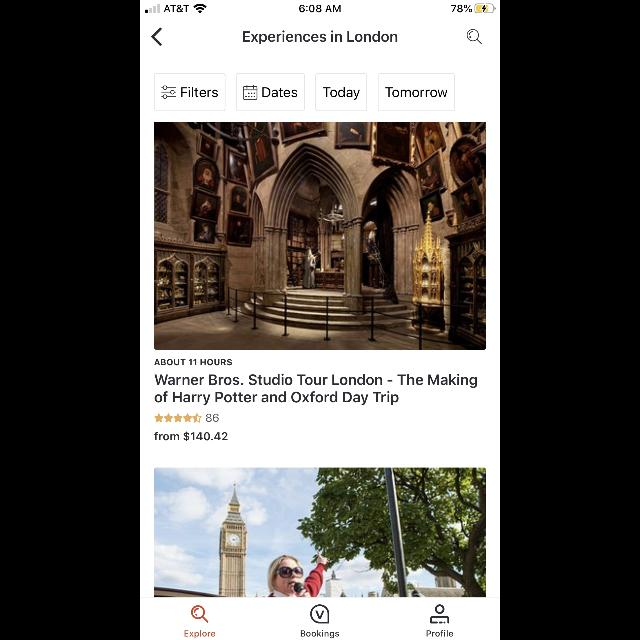icon: (154, 413, 202, 423), (430, 604, 450, 624), (192, 606, 208, 622), (466, 30, 482, 44), (152, 28, 162, 46)
image: (154, 122, 486, 350), (154, 468, 486, 596), (310, 604, 330, 624)
text: (155, 373, 478, 405), (242, 31, 398, 45), (154, 431, 228, 441), (154, 359, 232, 365), (301, 630, 339, 638), (184, 630, 216, 638), (427, 630, 453, 636), (206, 414, 218, 422)
textbutton: (378, 73, 454, 111), (154, 74, 226, 112), (237, 73, 306, 111), (315, 73, 367, 111)
uppertaskbar: (140, 0, 500, 14)
